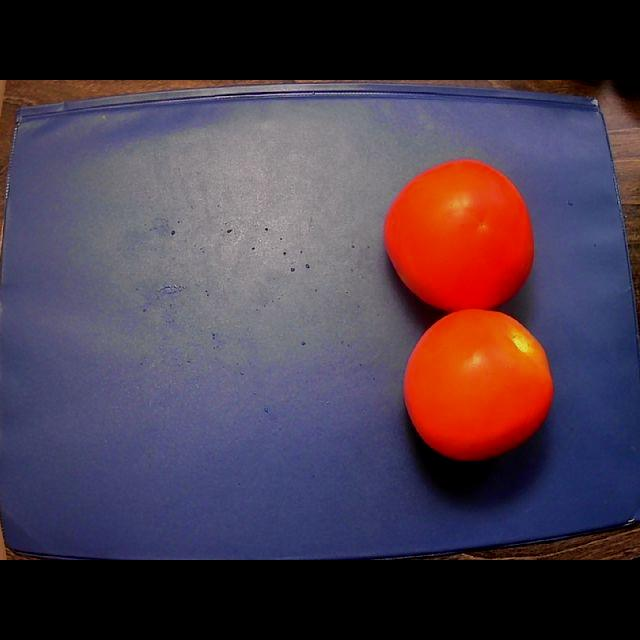tomate: (384, 159, 534, 311), (404, 309, 553, 460)
